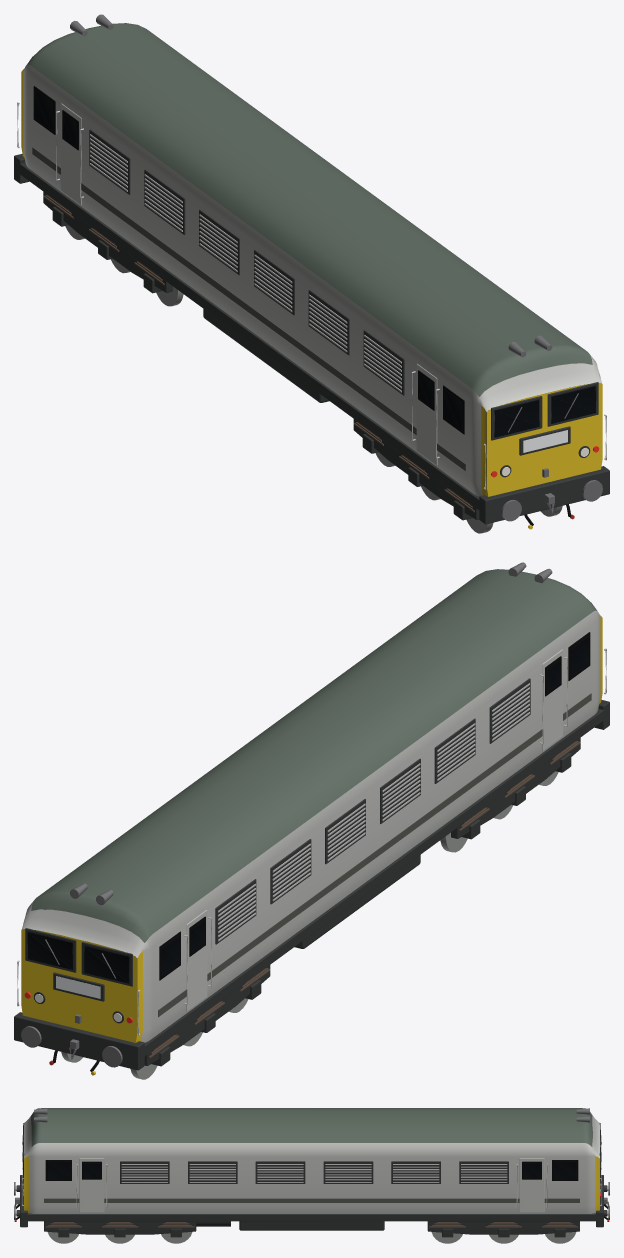
File: rail.train.diesel_old.glb
3 views of the same model, one above another, from view 1: azimuth 30°, elevation 25°; view 2: azimuth 150°, elevation 25°; view 3: azimuth 270°, elevation 25° (orthographic). The views are drawn at different scales.
Visible parts, largest first — view 1: main__paint_666, main__paint_ccc, main__paint_333, main__paint_ec2, main__glass_dark, main__paint_555, main__galv_777, main__galv_999, main__rubber, main__steel_654, main__galv_ccc; view 2: main__paint_666, main__paint_ccc, main__paint_333, main__paint_ec2, main__glass_dark, main__paint_555, main__galv_777, main__galv_999, main__rubber, main__steel_654, main__galv_ccc; view 3: main__paint_ccc, main__paint_666, main__paint_333, main__paint_555, main__glass_dark, main__galv_999, main__steel_654, main__rubber, main__galv_777, main__paint_ec2, main__galv_ccc.
Boxes of the visible parts, x1=… form: main__paint_666: x1=27, y1=23, x2=592, y2=396; main__paint_ccc: x1=23, y1=64, x2=602, y2=496; main__paint_333: x1=14, y1=129, x2=609, y2=524; main__paint_ec2: x1=21, y1=70, x2=602, y2=529; main__glass_dark: x1=34, y1=89, x2=596, y2=437; main__paint_555: x1=32, y1=147, x2=537, y2=471; main__galv_777: x1=70, y1=14, x2=602, y2=521; main__galv_999: x1=65, y1=225, x2=562, y2=533; main__rubber: x1=33, y1=86, x2=584, y2=525; main__steel_654: x1=43, y1=195, x2=474, y2=512; main__galv_ccc: x1=17, y1=102, x2=606, y2=489; main__paint_666: x1=31, y1=569, x2=597, y2=942; main__paint_ccc: x1=21, y1=610, x2=601, y2=1042; main__paint_333: x1=14, y1=678, x2=609, y2=1070; main__paint_ec2: x1=21, y1=616, x2=602, y2=1075; main__glass_dark: x1=27, y1=635, x2=589, y2=983; main__paint_555: x1=85, y1=693, x2=591, y2=1017; main__galv_777: x1=21, y1=562, x2=552, y2=1067; main__galv_999: x1=61, y1=771, x2=558, y2=1079; main__rubber: x1=35, y1=632, x2=590, y2=1071; main__steel_654: x1=149, y1=741, x2=580, y2=1058; main__galv_ccc: x1=17, y1=648, x2=606, y2=1035; main__paint_ccc: x1=24, y1=1115, x2=599, y2=1213; main__paint_666: x1=31, y1=1108, x2=592, y2=1146; main__paint_333: x1=20, y1=1123, x2=603, y2=1237; main__paint_555: x1=44, y1=1198, x2=579, y2=1202; main__glass_dark: x1=23, y1=1125, x2=600, y2=1179; main__galv_999: x1=47, y1=1232, x2=576, y2=1243; main__steel_654: x1=45, y1=1222, x2=578, y2=1227; main__rubber: x1=15, y1=1160, x2=608, y2=1219; main__galv_777: x1=14, y1=1108, x2=609, y2=1219; main__paint_ec2: x1=15, y1=1156, x2=608, y2=1213; main__galv_ccc: x1=15, y1=1142, x2=608, y2=1215.
Size of the model in its own units: 2.84 by 4 by 18.01.
